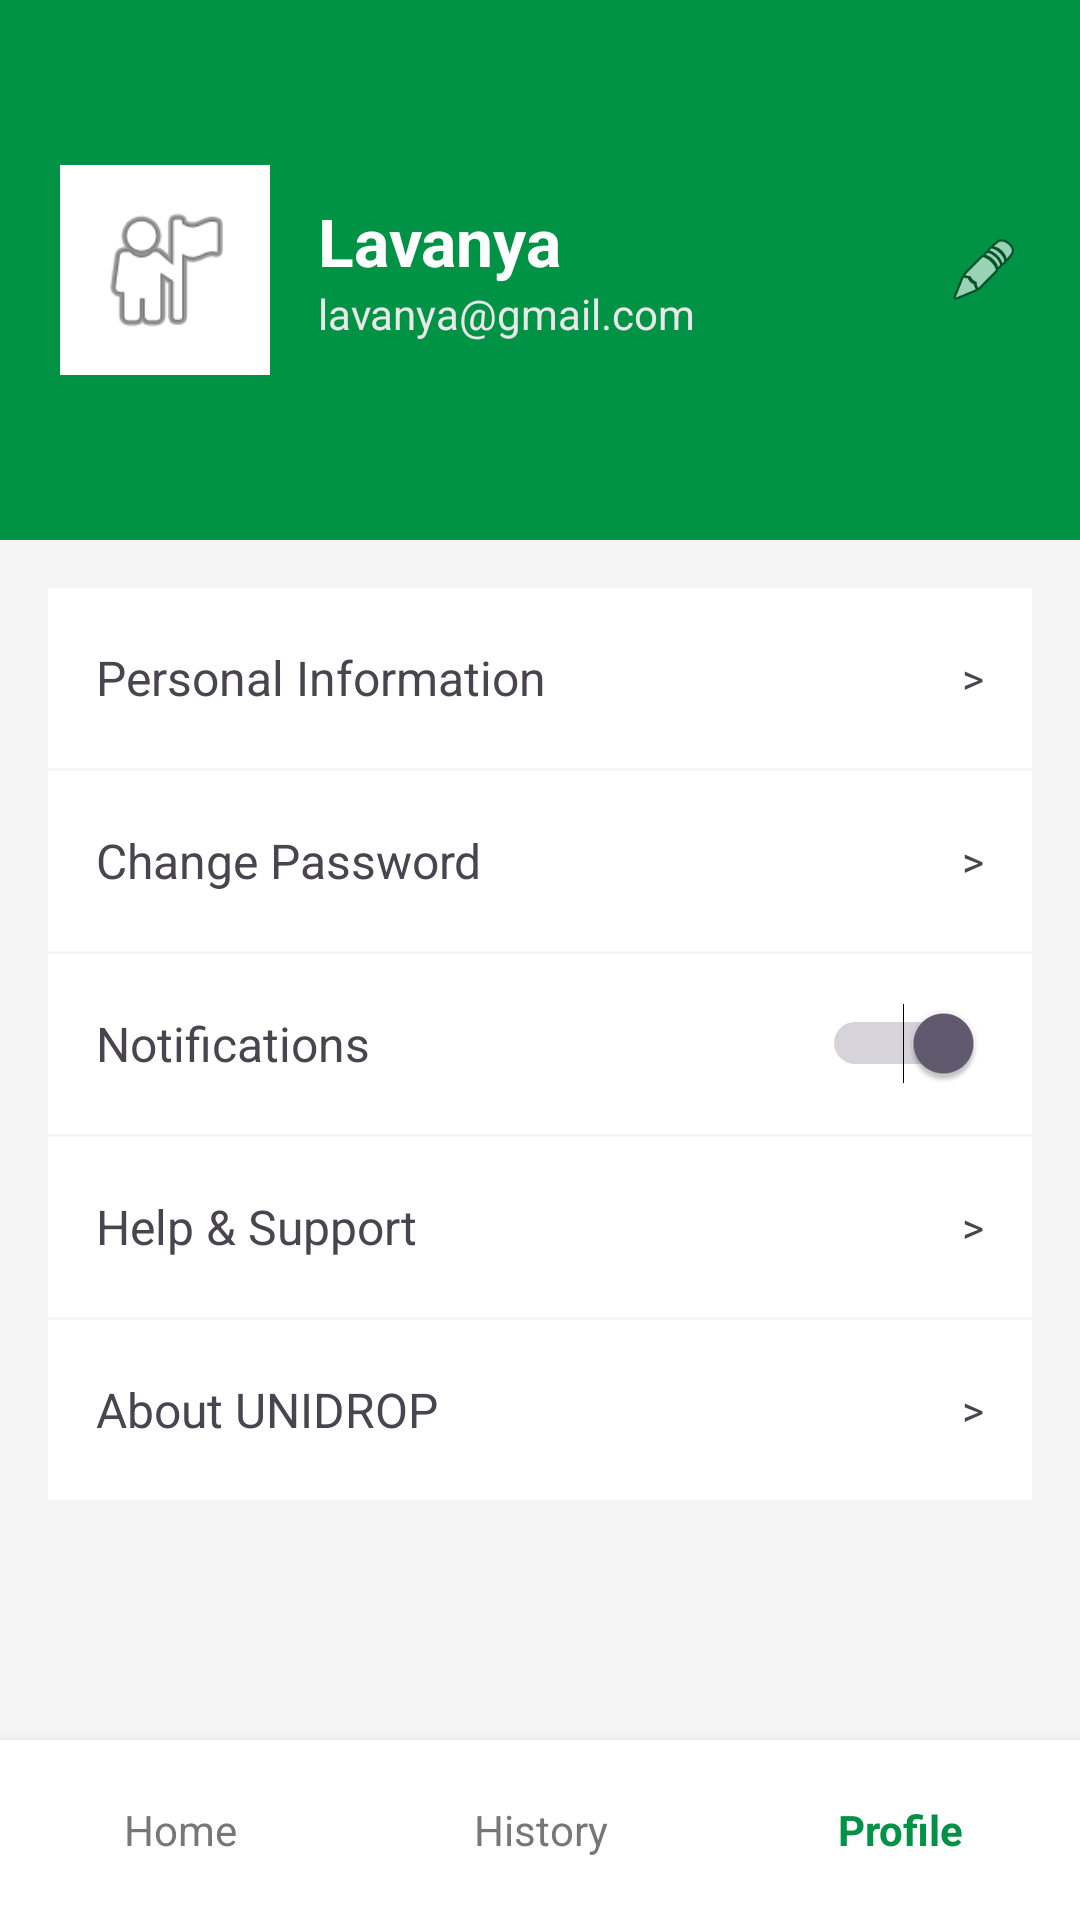

Screen size 1080×1920. Icon name, then its center in pixels as (x,y):
edit: (983,269)
myplaces: (165,270)
